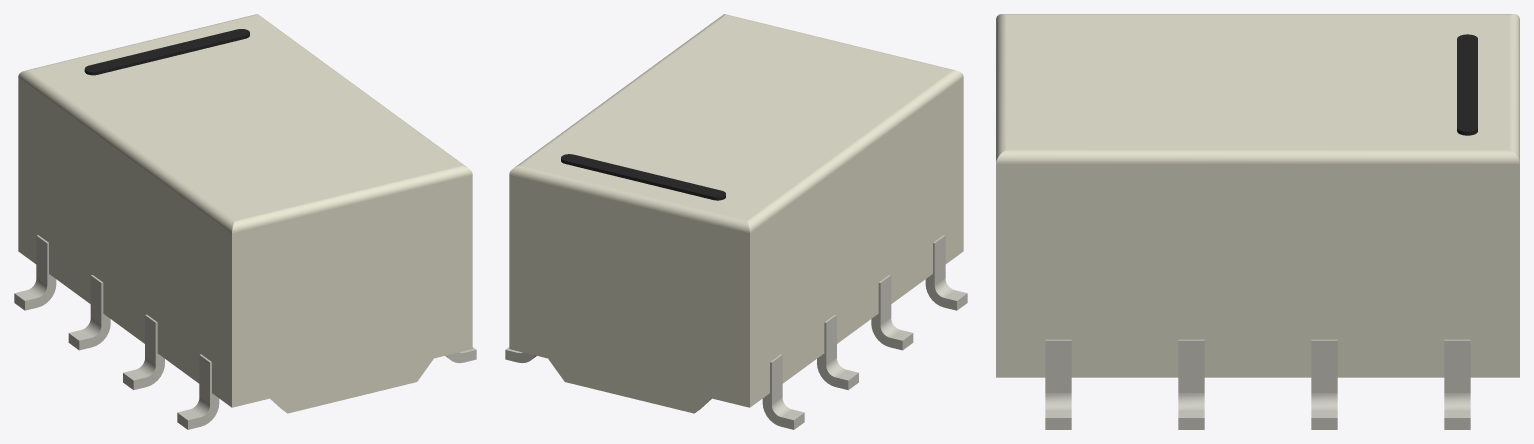
The model's file is kc-relay_dpdt_omron_g6k-2f.glb.
The picture shows the model from 3 angles, left to right: view 1: azimuth 30°, elevation 25°; view 2: azimuth 150°, elevation 25°; view 3: azimuth 270°, elevation 25°; orthographic projection. The views are drawn at different scales.
Visible parts, largest first — view 1: 0.75_0.75_0.6666666666666666_0, 0.6666666666666666_0.6666666666666666_0.5833333333333334_0.8, 0_0_0_0; view 2: 0.75_0.75_0.6666666666666666_0, 0.6666666666666666_0.6666666666666666_0.5833333333333334_0.8, 0_0_0_0; view 3: 0.75_0.75_0.6666666666666666_0, 0.6666666666666666_0.6666666666666666_0.5833333333333334_0.8, 0_0_0_0.
Boxes of the visible parts, x1=… form: 0.75_0.75_0.6666666666666666_0: x1=18, y1=14, x2=472, y2=413; 0.6666666666666666_0.6666666666666666_0.5833333333333334_0.8: x1=14, y1=235, x2=476, y2=429; 0_0_0_0: x1=84, y1=29, x2=249, y2=75; 0.75_0.75_0.6666666666666666_0: x1=509, y1=14, x2=963, y2=413; 0.6666666666666666_0.6666666666666666_0.5833333333333334_0.8: x1=505, y1=235, x2=967, y2=429; 0_0_0_0: x1=561, y1=154, x2=725, y2=200; 0.75_0.75_0.6666666666666666_0: x1=996, y1=14, x2=1519, y2=377; 0.6666666666666666_0.6666666666666666_0.5833333333333334_0.8: x1=1045, y1=339, x2=1470, y2=429; 0_0_0_0: x1=1457, y1=34, x2=1477, y2=135.
Bounding box in the file's own units: 0.78 × 0.558 × 1.
